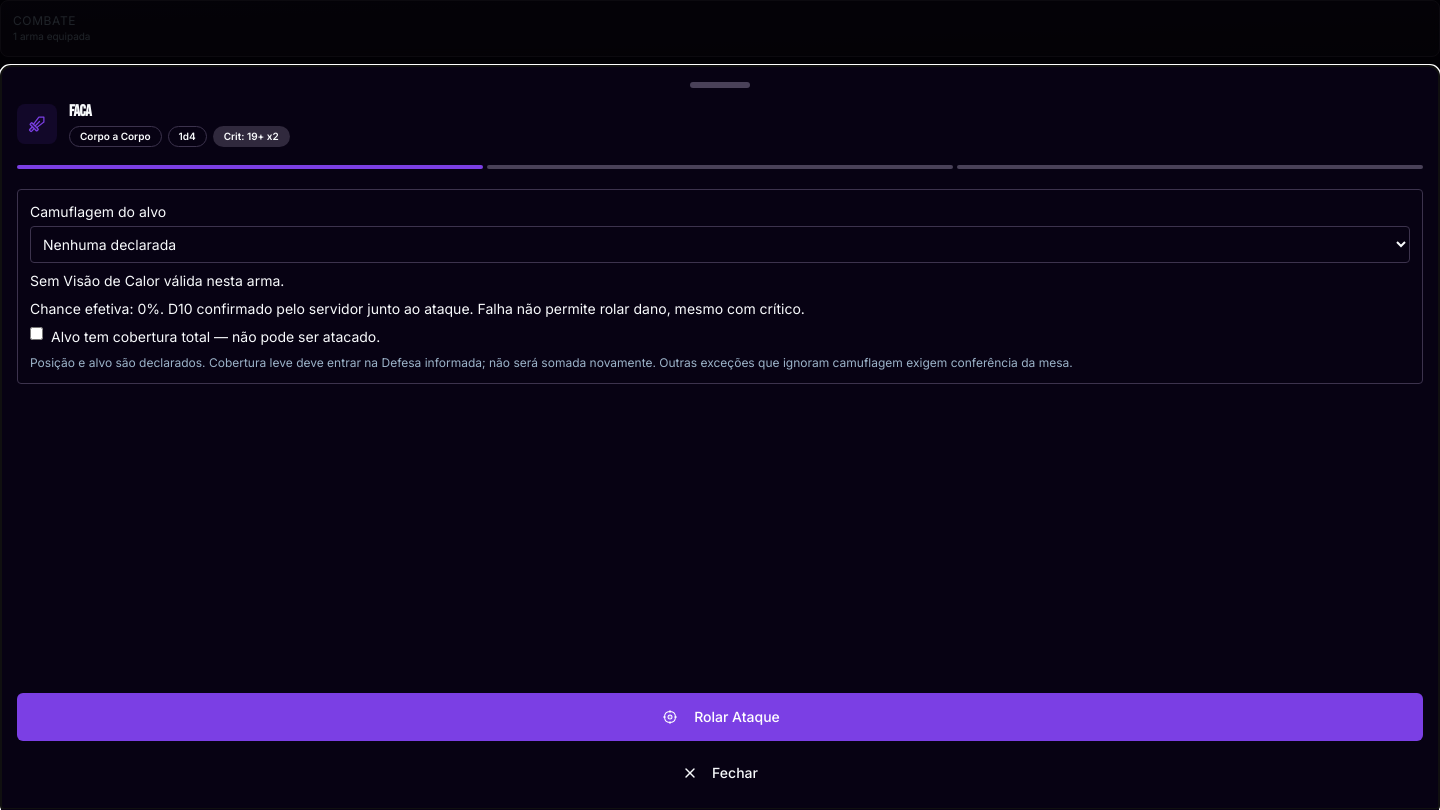
Test: Inventário → combate móvel › mantém a regra personalizada de erro mesmo com 20 natural
Earlier steps of the test are not shown.
Click the button "Rolar Ataque" at (720, 717), box 17,693 -> 1423,741
Wait 600 ms
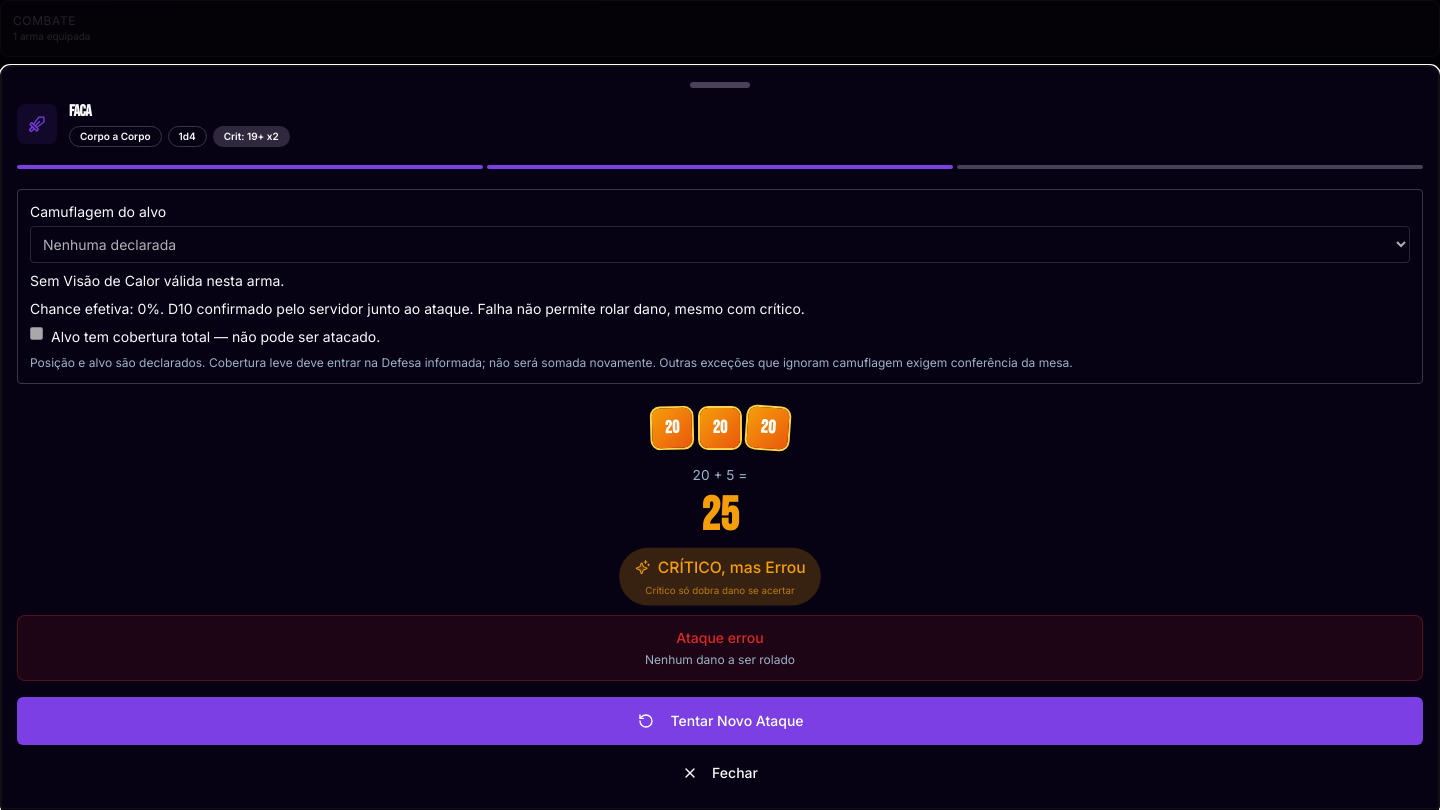
Result: the text "CRÍTICO, mas Errou" is shown at 658,555 -> 806,579
